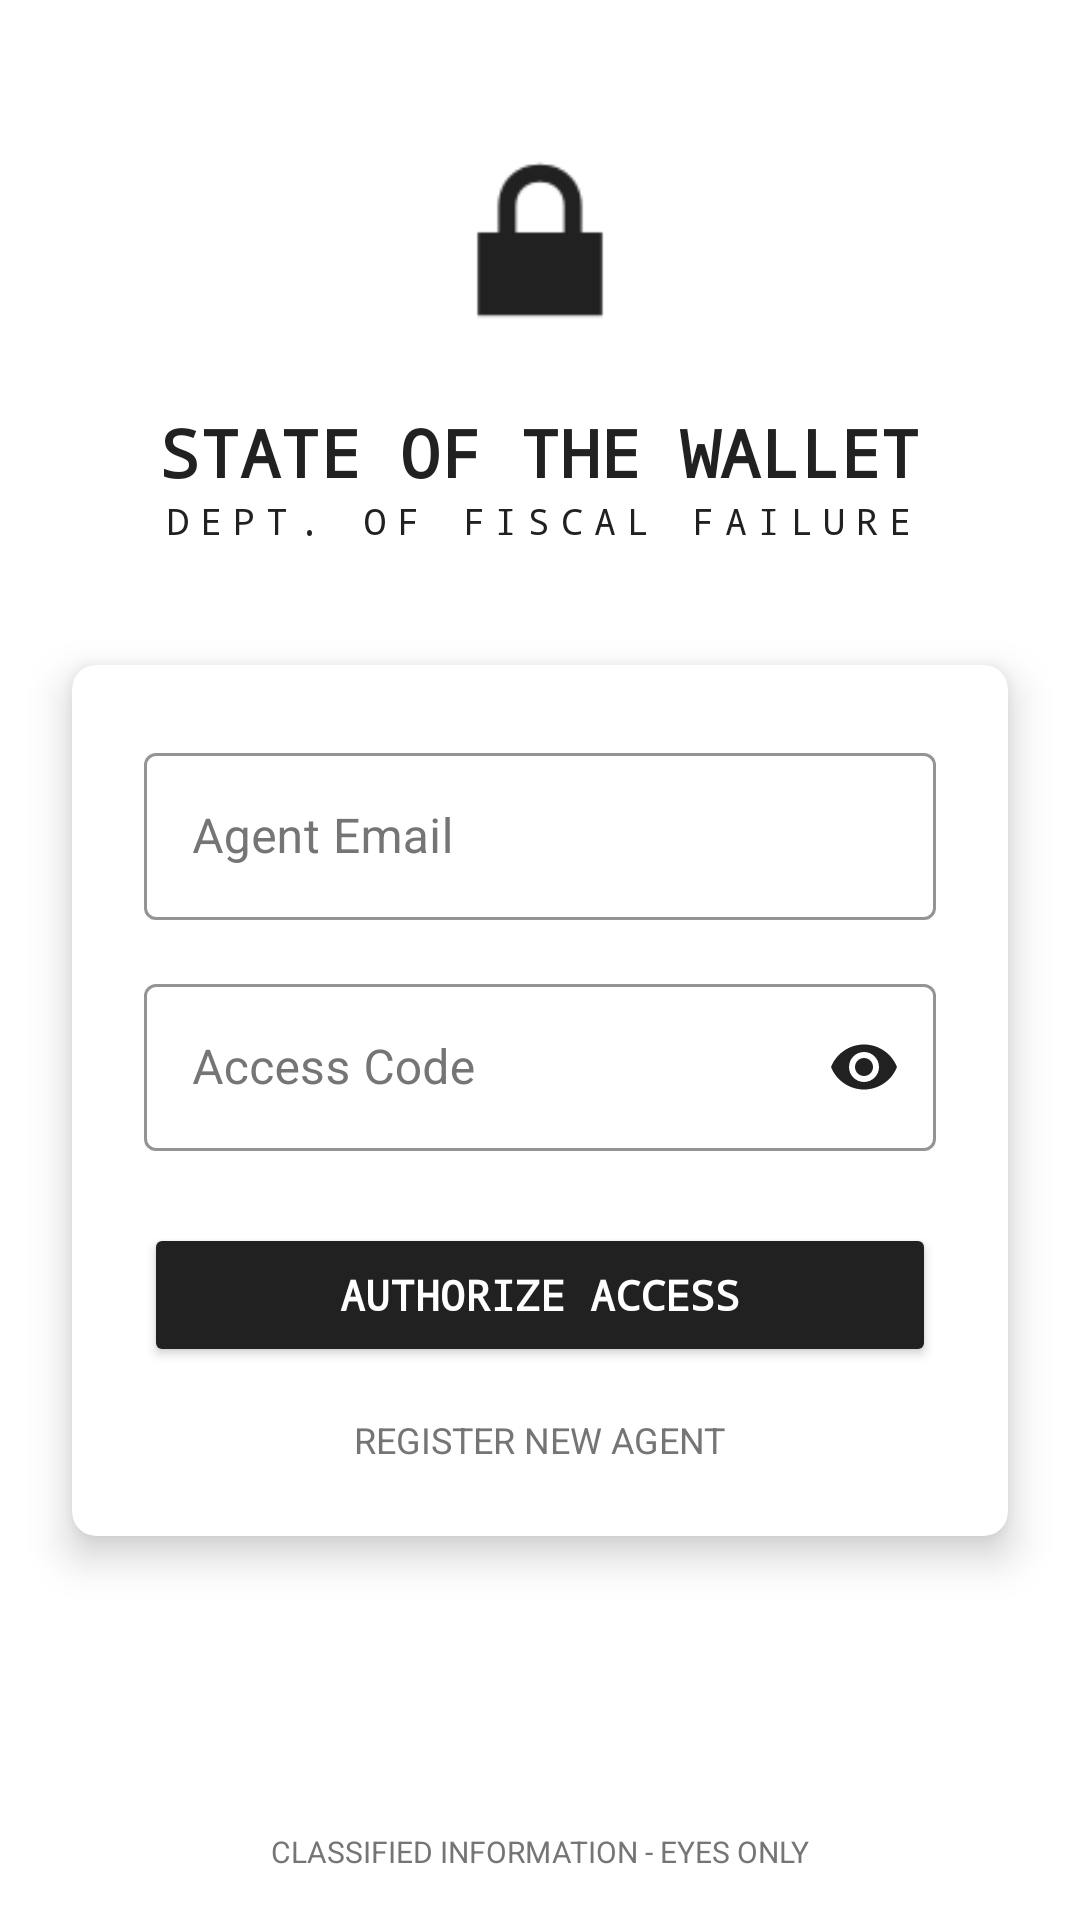

Named icons in this screenshot (1080px x 1920px) and their centers, (x,y):
lock: (540,240)
